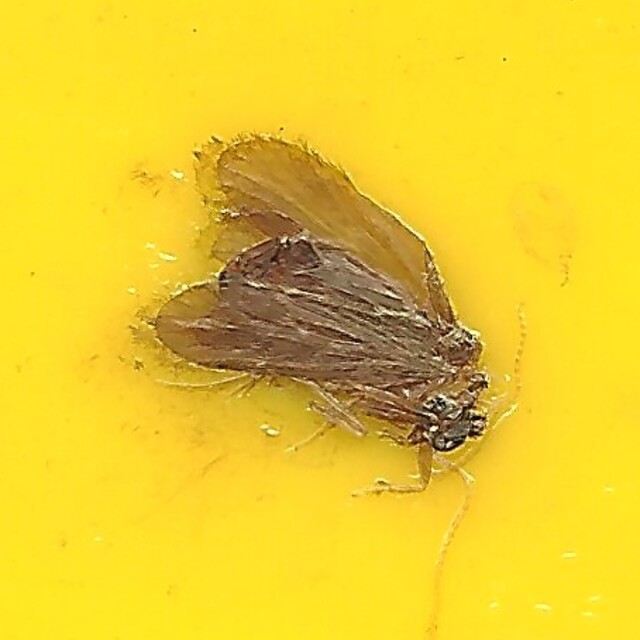Trichoptera: (141, 138, 499, 502)
